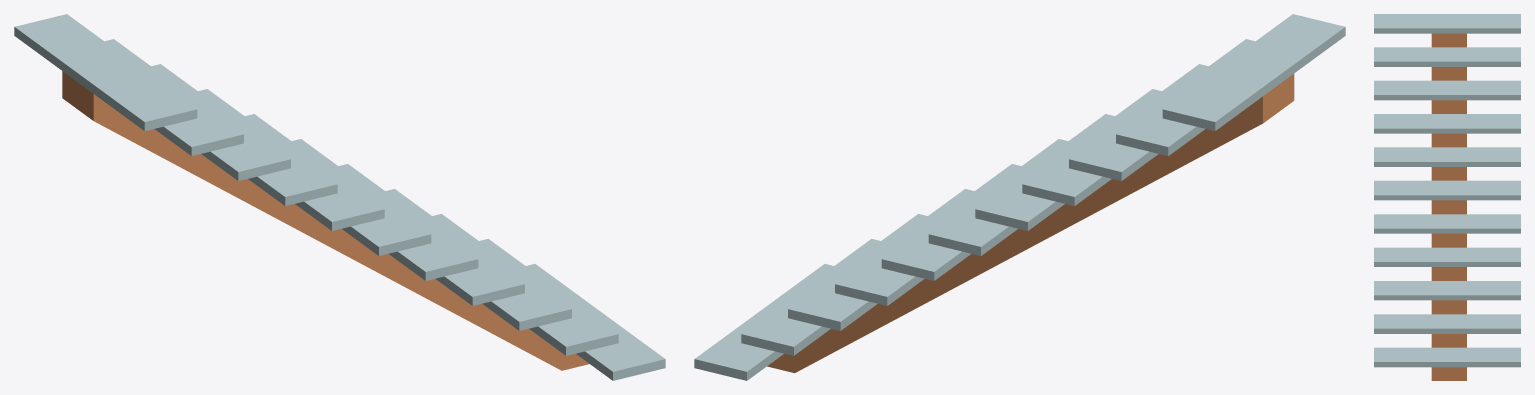
Rendered from stairsOpenSingle.fbx.
The picture shows the model from 3 angles, left to right: view 1: azimuth 30°, elevation 25°; view 2: azimuth 150°, elevation 25°; view 3: azimuth 270°, elevation 25°; orthographic projection. The views are drawn at different scales.
Visible parts, largest first — view 1: stairsOpenSingle, Group; view 2: stairsOpenSingle, Group; view 3: stairsOpenSingle, Group.
Boxes of the visible parts, x1,y1,x2,y2 form: stairsOpenSingle: (14,14,665,380); Group: (62,71,589,370); stairsOpenSingle: (694,14,1345,380); Group: (767,74,1294,373); stairsOpenSingle: (1374,14,1520,367); Group: (1431,33,1466,380).
Size of the model in its own units: 18.23 by 13.4 by 7.9.
